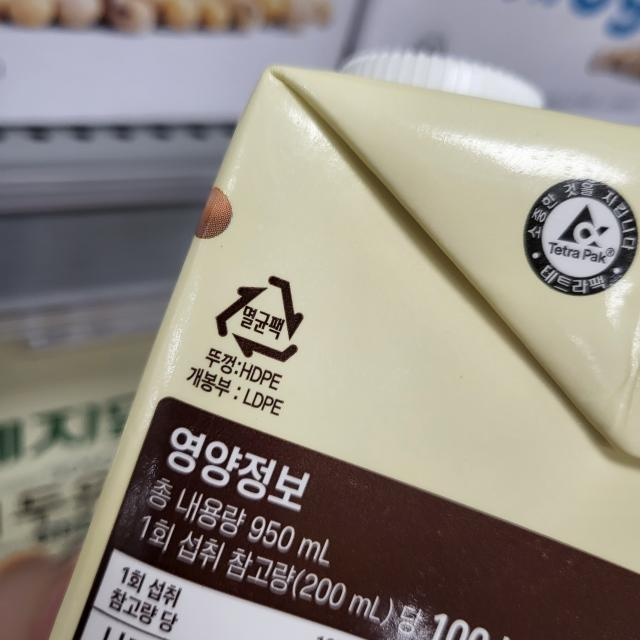SterilizedPack: (206, 270, 308, 368)
